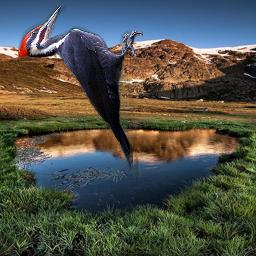Woodpecker: (18, 6, 143, 183)
